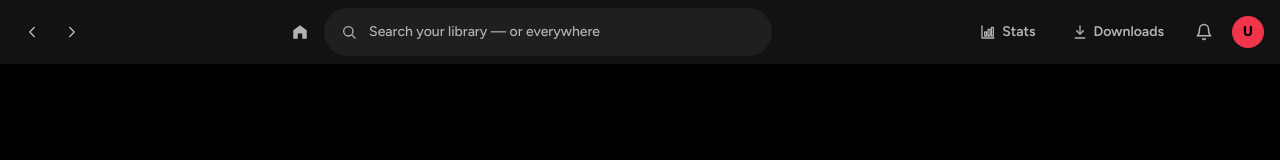
Test: TopBar › exactly one Settings menu item (no separate Account item)
Click the button "U". click: (1248,32)
box: [1232,16,1264,48]
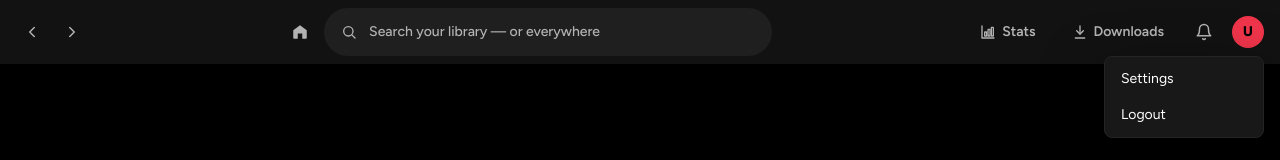
Check: the menu item "Settings" is shown, box [1105,61,1263,97]
